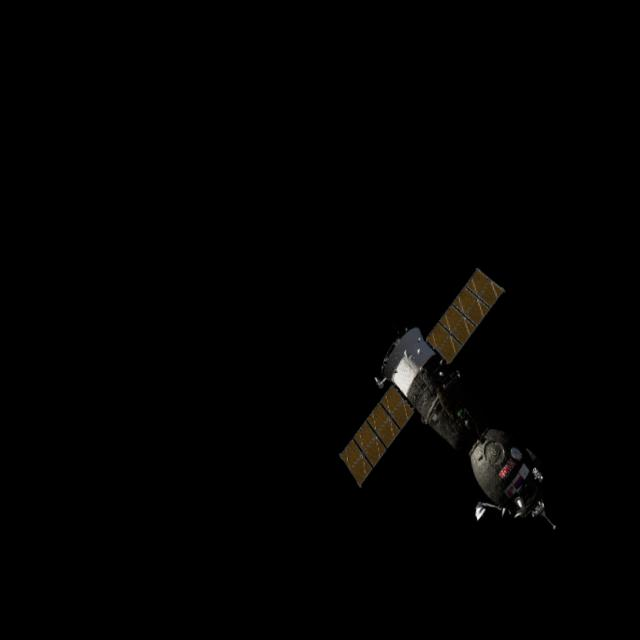Satellites revolving around earth: (318, 258, 558, 554)
